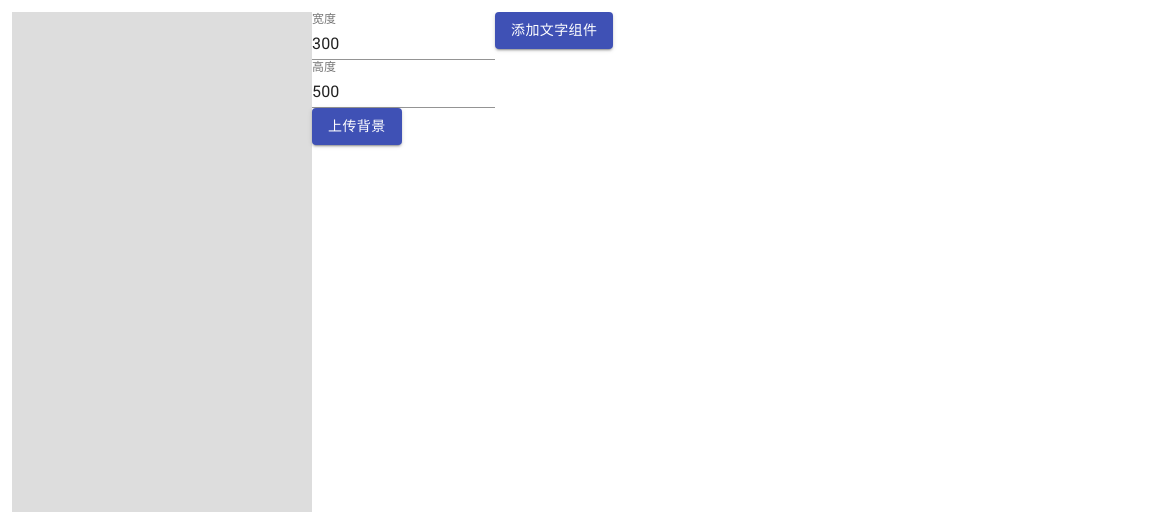
test template component › template should has a btn to add text widget
This screenshot has width=1152, height=529.
Click the button with test id "textWidgetAdd": (554, 30) left=495, top=12, right=613, bottom=48
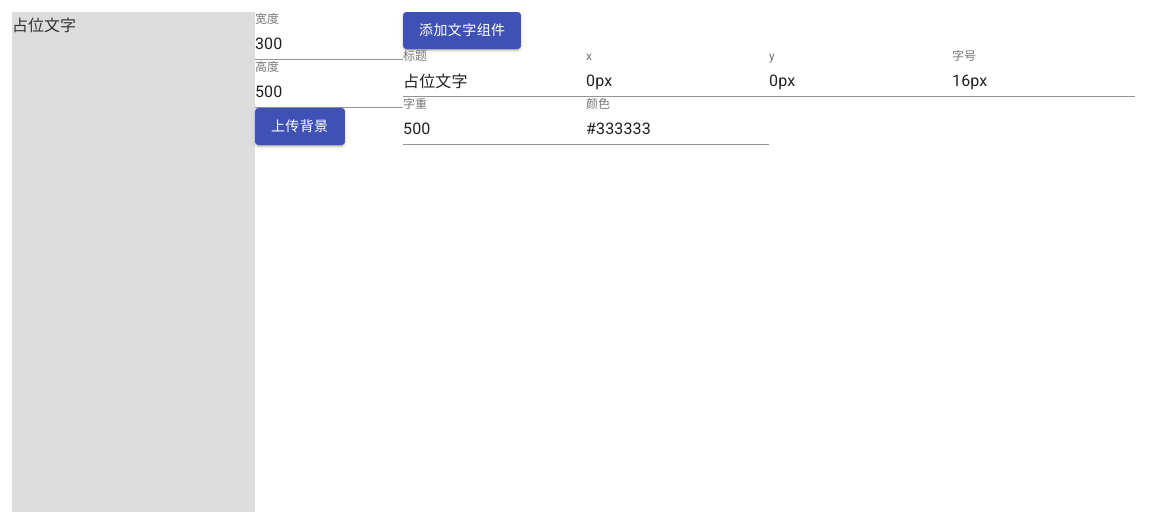
Result: the text "占位文字" is shown at left=12, top=12, right=76, bottom=36
